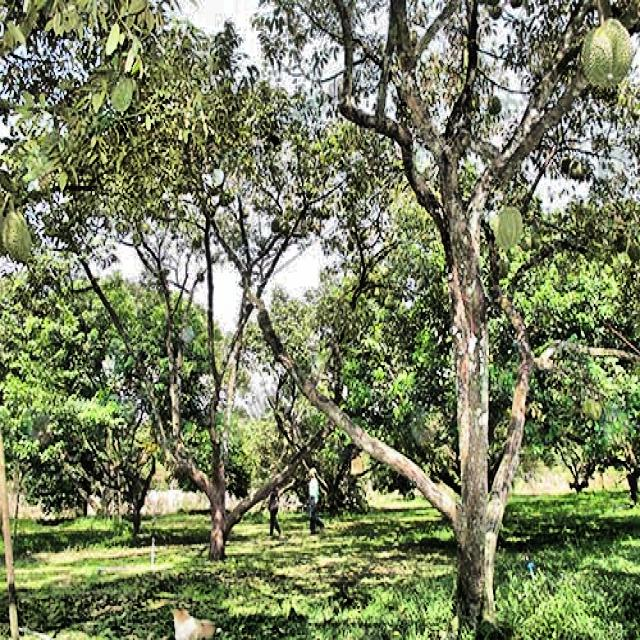arvore: (424, 198, 518, 640), (196, 403, 240, 578)
